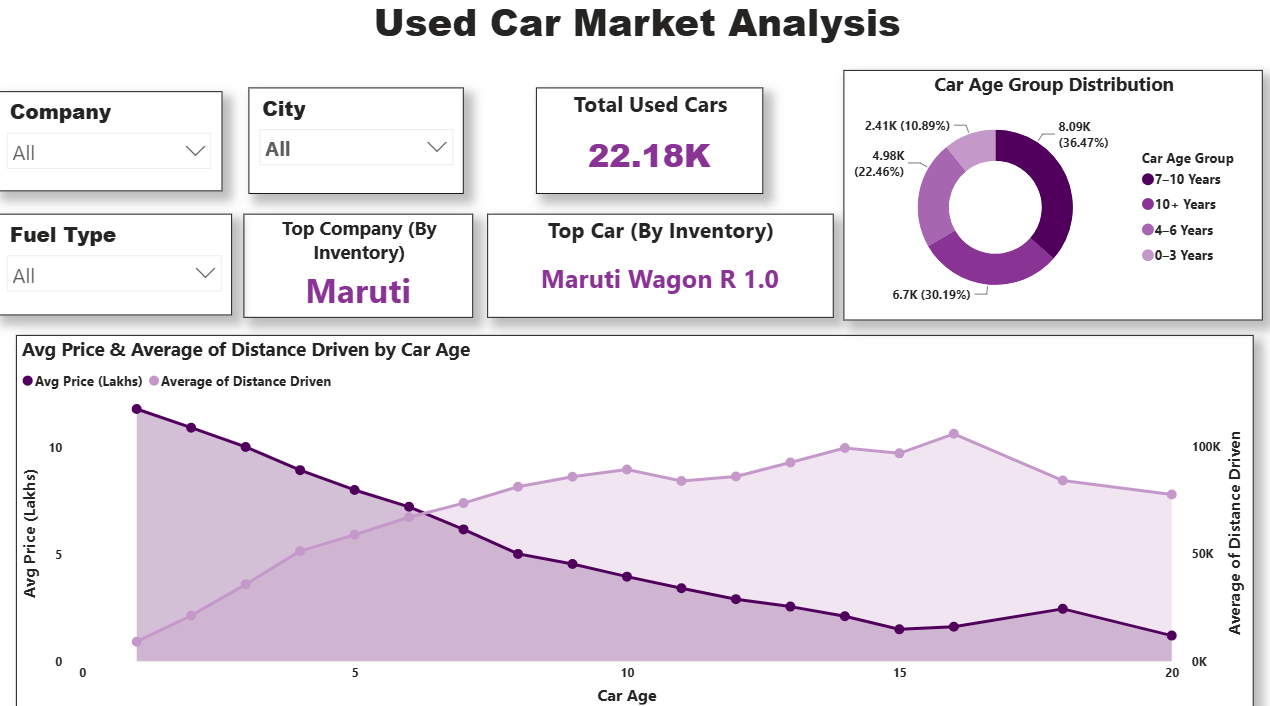

Layout of this report page (visuals, bound fields, positions):
{"tool":"powerbi","page":{"name":"Page 1","canvas":[1280,720],"ordinal":0},"visuals":[{"type":"slicer","title":"City","fields":{"Values":["All_Cities_Cars24.City"]},"box":[251.9,97.8,215.2,106.4],"z":0},{"type":"card","title":"Top Company (By Inventory)","fields":{"Values":["Min(All_Cities_Cars24.Company)"]},"box":[247,223.8,229.9,103.9],"z":1000},{"type":"slicer","fields":{"Values":["All_Cities_Cars24.Company"]},"box":[0,101.5,226.2,100.3],"z":2000},{"type":"card","title":"Top Car (By Inventory)","fields":{"Values":["Min(All_Cities_Cars24.Car Name)"]},"box":[491.6,223.8,346.1,103.9],"z":3000},{"type":"slicer","fields":{"Values":["All_Cities_Cars24.Fuel Type"]},"box":[0,223.8,236,101.5],"z":4000},{"type":"card","title":"Total Used Cars","fields":{"Values":["CountNonNull(All_Cities_Cars24.Car Name)"]},"box":[540.5,97.8,227.4,106.4],"z":6000},{"type":"lineChart","title":"Avg Price & Average of Distance Driven by Car Age","fields":{"Category":["All_Cities_Cars24.Car Age"],"Y":["All_Cities_Cars24.Avg Price (Lakhs)"],"Y2":["Avg(All_Cities_Cars24.Distance Driven)"]},"box":[20.6,344.4,1237.7,376],"z":7000},{"type":"textbox","box":[23.2,0,1235.1,68.5],"z":8000},{"type":"donutChart","title":"Car Age Group Distribution","fields":{"Category":["All_Cities_Cars24.Car Age Group"],"Y":["CountNonNull(All_Cities_Cars24.Car Name)"]},"box":[847.4,79.5,419.4,250.7],"z":9000}]}

Visuals, with their boxes in screenshot pixels (x1, y1, x2, y2), scaled from the page's 1280x720 canvas onto the 1270x706 screenshot:
"City" slicer: select_region(250, 96, 463, 200)
"Top Company (By Inventory)" card: select_region(245, 219, 473, 321)
slicer - All_Cities_Cars24.Company: select_region(0, 100, 224, 198)
"Top Car (By Inventory)" card: select_region(488, 219, 831, 321)
slicer - All_Cities_Cars24.Fuel Type: select_region(0, 219, 234, 319)
"Total Used Cars" card: select_region(536, 96, 762, 200)
"Avg Price & Average of Distance Driven by Car Age" lineChart: select_region(20, 338, 1248, 705)
textbox: select_region(23, 0, 1248, 67)
"Car Age Group Distribution" donutChart: select_region(841, 78, 1257, 324)
